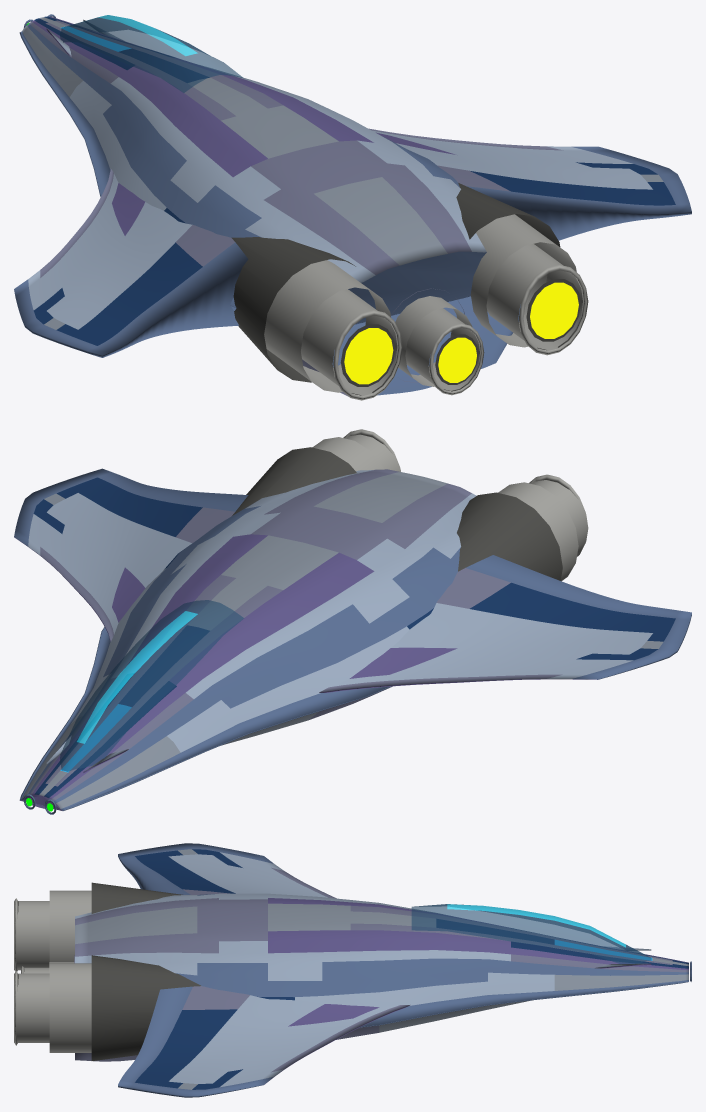
Rendered from player_spaceship.glb.
The picture shows the model from 3 angles, top to bottom: view 1: azimuth 30°, elevation 25°; view 2: azimuth 150°, elevation 25°; view 3: azimuth 270°, elevation 25°; orthographic projection. The views are drawn at different scales.
Visible parts, largest first — view 1: PlayerShip_TextureMappedMergedHullAndWingSurface, SingleCanopy_BlueGlassDome_DippedFrontEdge, LeftMainEngineStack_LargeNestedCylinder_EngineRootDrum_Taper, LeftMainEngineStack_LargeNestedCylinder_EngineMiddleSleeve_S, RightMainEngineStack_LargeNestedCylinder_EngineMiddleSleeve_, RightMainEngineStack_LargeNestedCylinder_EngineRearNozzle_Th, LeftMainEngineStack_LargeNestedCylinder_EngineRearNozzle_Thi, CenterEngineStack_SmallerNestedCylinder_EngineRearNozzle_Thi, EngineEmitter_LeftMainEngineStack_LargeNestedCylinder_Nested, EngineEmitter_RightMainEngineStack_LargeNestedCylinder_Neste, RightMainEngineStack_LargeNestedCylinder_EngineRootDrum_Tape, CenterEngineStack_SmallerNestedCylinder_EngineMiddleSleeve_S (+6 smaller); view 2: PlayerShip_TextureMappedMergedHullAndWingSurface, SingleCanopy_BlueGlassDome_DippedFrontEdge, LeftMainEngineStack_LargeNestedCylinder_EngineRootDrum_Taper, RightMainEngineStack_LargeNestedCylinder_EngineRootDrum_Tape, LeftMainEngineStack_LargeNestedCylinder_EngineMiddleSleeve_S, RightMainEngineStack_LargeNestedCylinder_EngineMiddleSleeve_, LeftMainEngineStack_LargeNestedCylinder_EngineRearNozzle_Thi, RightMainEngineStack_LargeNestedCylinder_EngineRearNozzle_Th; view 3: PlayerShip_TextureMappedMergedHullAndWingSurface, SingleCanopy_BlueGlassDome_DippedFrontEdge, RightMainEngineStack_LargeNestedCylinder_EngineRootDrum_Tape, RightMainEngineStack_LargeNestedCylinder_EngineMiddleSleeve_, RightMainEngineStack_LargeNestedCylinder_EngineRearNozzle_Th, LeftMainEngineStack_LargeNestedCylinder_EngineMiddleSleeve_S, LeftMainEngineStack_LargeNestedCylinder_EngineRearNozzle_Thi, LeftMainEngineStack_LargeNestedCylinder_EngineRootDrum_Taper.
Part boxes in pixels (x1,y1,x2,y2): PlayerShip_TextureMappedMergedHullAndWingSurface: (14,16,691,396); SingleCanopy_BlueGlassDome_DippedFrontEdge: (60,15,243,92); LeftMainEngineStack_LargeNestedCylinder_EngineRootDrum_Taper: (231,237,355,382); LeftMainEngineStack_LargeNestedCylinder_EngineMiddleSleeve_S: (264,260,390,392); RightMainEngineStack_LargeNestedCylinder_EngineMiddleSleeve_: (470,214,576,347); RightMainEngineStack_LargeNestedCylinder_EngineRearNozzle_Th: (486,244,588,350); LeftMainEngineStack_LargeNestedCylinder_EngineRearNozzle_Thi: (301,289,402,395); CenterEngineStack_SmallerNestedCylinder_EngineRearNozzle_Thi: (405,308,484,390); EngineEmitter_LeftMainEngineStack_LargeNestedCylinder_Nested: (344,328,393,384); EngineEmitter_RightMainEngineStack_LargeNestedCylinder_Neste: (530,282,578,338); RightMainEngineStack_LargeNestedCylinder_EngineRootDrum_Tape: (456,183,560,246); CenterEngineStack_SmallerNestedCylinder_EngineMiddleSleeve_S: (395,296,472,386); PlayerShip_TextureMappedMergedHullAndWingSurface: (14,468,691,810); SingleCanopy_BlueGlassDome_DippedFrontEdge: (59,600,243,771); LeftMainEngineStack_LargeNestedCylinder_EngineRootDrum_Taper: (457,492,562,580); RightMainEngineStack_LargeNestedCylinder_EngineRootDrum_Tape: (232,447,356,515); LeftMainEngineStack_LargeNestedCylinder_EngineMiddleSleeve_S: (498,482,578,581); RightMainEngineStack_LargeNestedCylinder_EngineMiddleSleeve_: (312,437,383,471); LeftMainEngineStack_LargeNestedCylinder_EngineRearNozzle_Thi: (532,480,588,553); RightMainEngineStack_LargeNestedCylinder_EngineRearNozzle_Th: (346,434,400,471); PlayerShip_TextureMappedMergedHullAndWingSurface: (75,843,688,1097); SingleCanopy_BlueGlassDome_DippedFrontEdge: (411,904,651,964); RightMainEngineStack_LargeNestedCylinder_EngineRootDrum_Tape: (91,955,200,1060); RightMainEngineStack_LargeNestedCylinder_EngineMiddleSleeve_: (49,963,91,1052); RightMainEngineStack_LargeNestedCylinder_EngineRearNozzle_Th: (16,973,49,1042); LeftMainEngineStack_LargeNestedCylinder_EngineMiddleSleeve_S: (49,890,91,961); LeftMainEngineStack_LargeNestedCylinder_EngineRearNozzle_Thi: (16,901,49,970); LeftMainEngineStack_LargeNestedCylinder_EngineRootDrum_Taper: (91,882,182,913).
Bounding box in the file's own units: 3.92 × 0.9569 × 4.45.
